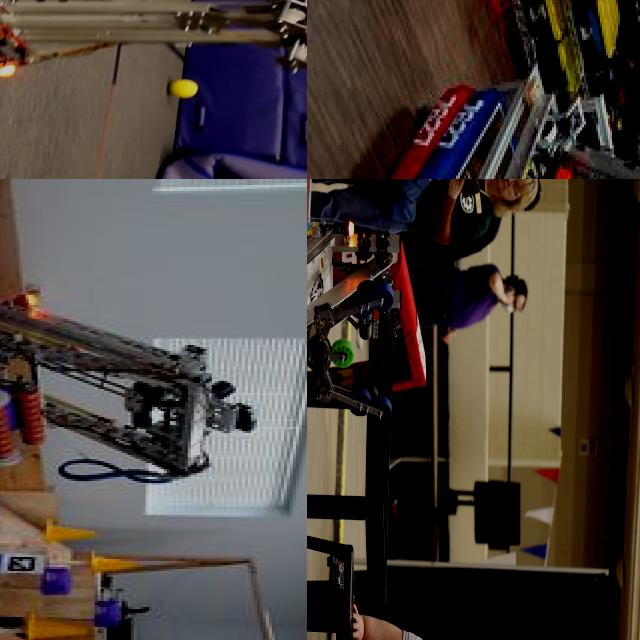FRC-Robots: (0, 199, 257, 581), (0, 0, 307, 155), (307, 179, 440, 509), (463, 70, 640, 179)
